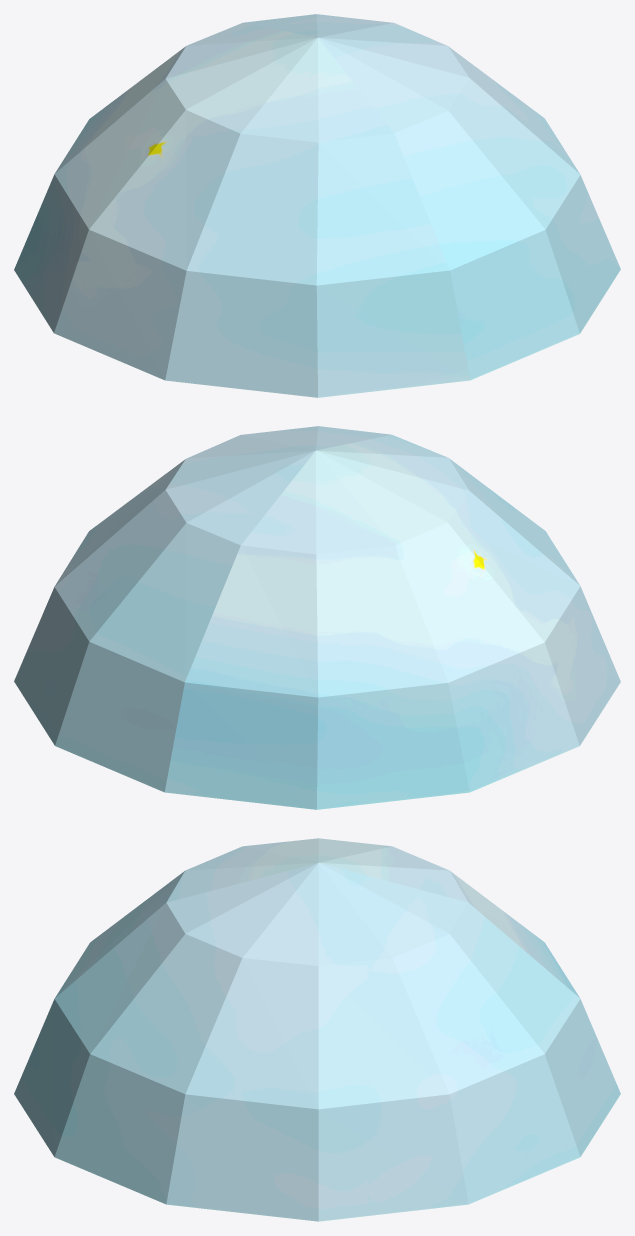
The model's file is BackDome.glb.
3 renders of one model, top to bottom at view 1: azimuth 30°, elevation 25°; view 2: azimuth 150°, elevation 25°; view 3: azimuth 270°, elevation 25°, orthographic.
Visible parts, largest first — view 1: BackDome; view 2: BackDome; view 3: BackDome.
Boxes of the visible parts, x1,y1,x2,y2 form: BackDome: [14, 14, 620, 397]; BackDome: [14, 426, 620, 809]; BackDome: [14, 838, 620, 1221].
Bounding box in the file's own units: 166 × 69.74 × 166.
1 material, 1 textured.
